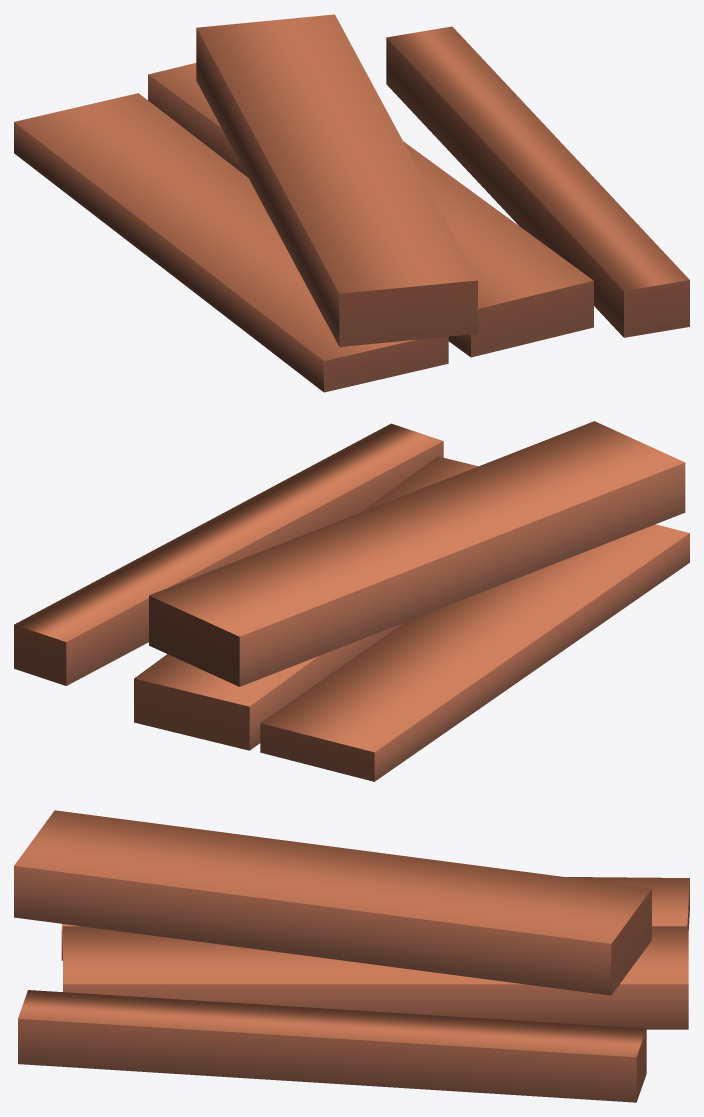
Rendered from platform-planks.glb.
The picture shows the model from 3 angles, top to bottom: view 1: azimuth 30°, elevation 25°; view 2: azimuth 150°, elevation 25°; view 3: azimuth 270°, elevation 25°; orthographic projection. The views are drawn at different scales.
Visible parts, largest first — view 1: platform-planks; view 2: platform-planks; view 3: platform-planks.
Boxes of the visible parts, x1=… form: platform-planks: x1=14, y1=14, x2=689, y2=392; platform-planks: x1=14, y1=421, x2=689, y2=781; platform-planks: x1=14, y1=810, x2=689, y2=1102.
Size of the model in its own units: 1.89 by 0.428 by 2.7.
Materials: 1 (1 with a texture image).
